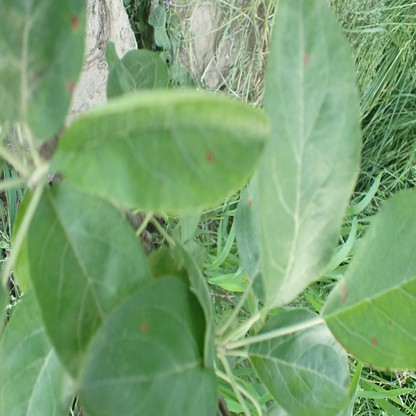frogeye: (70, 15, 80, 29), (342, 284, 348, 302), (66, 81, 74, 92), (304, 52, 310, 64), (206, 154, 214, 161), (371, 338, 376, 346), (248, 200, 253, 208), (142, 324, 147, 331)
